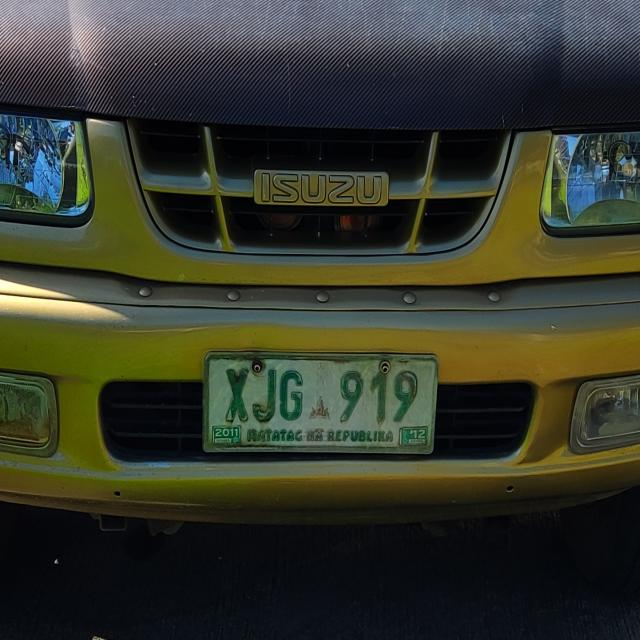plate: (198, 345, 442, 459)
